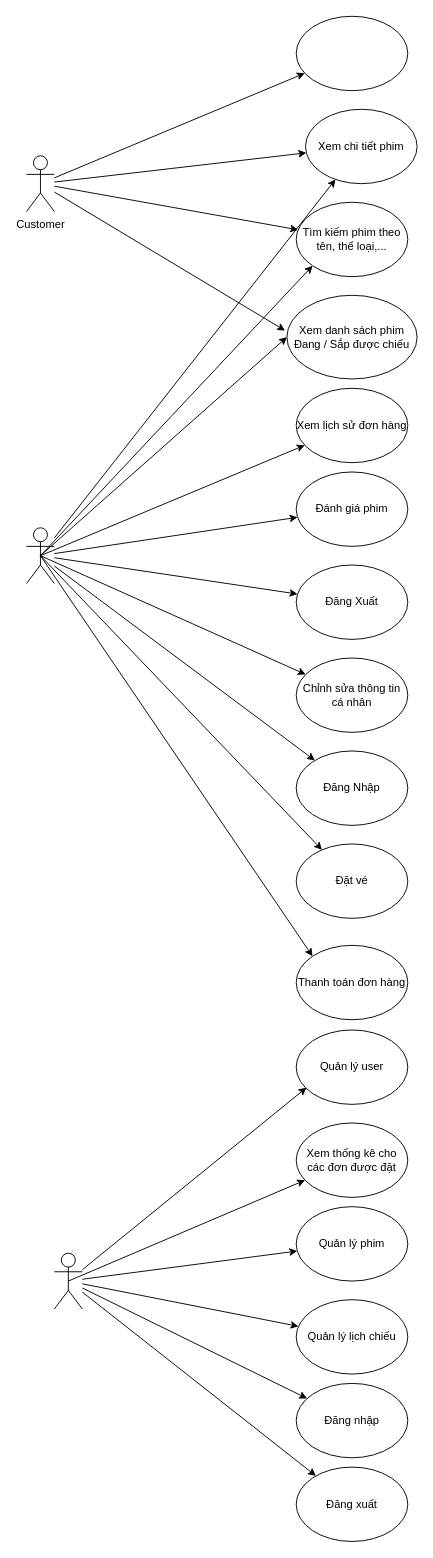
This 433x1558 diagram has some shape labels left out. The centre of each missing label's shape, as x and y in pixels:
"Admin" goes at [67,1280].
"User" goes at [40,555].
"Đăng kí tài khoản" goes at [351,53].
